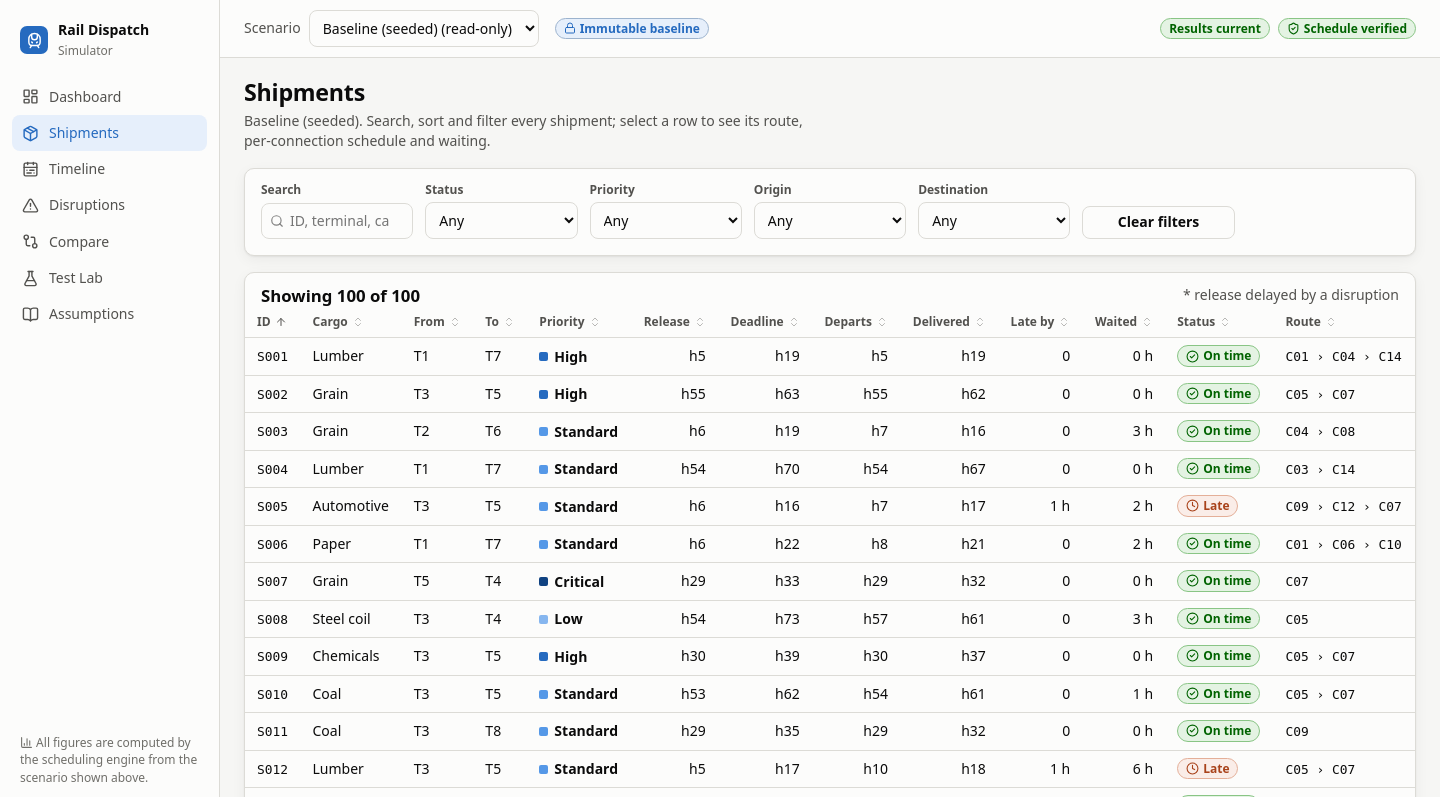
Test: shipments table › searches, filters and sorts
Expected: the heading "Showing 100 of 100" is shown, [261, 285, 420, 306]
Select "Undeliverable" in the dropdown named "Filter by status" at (501, 220), box [425, 202, 578, 239]
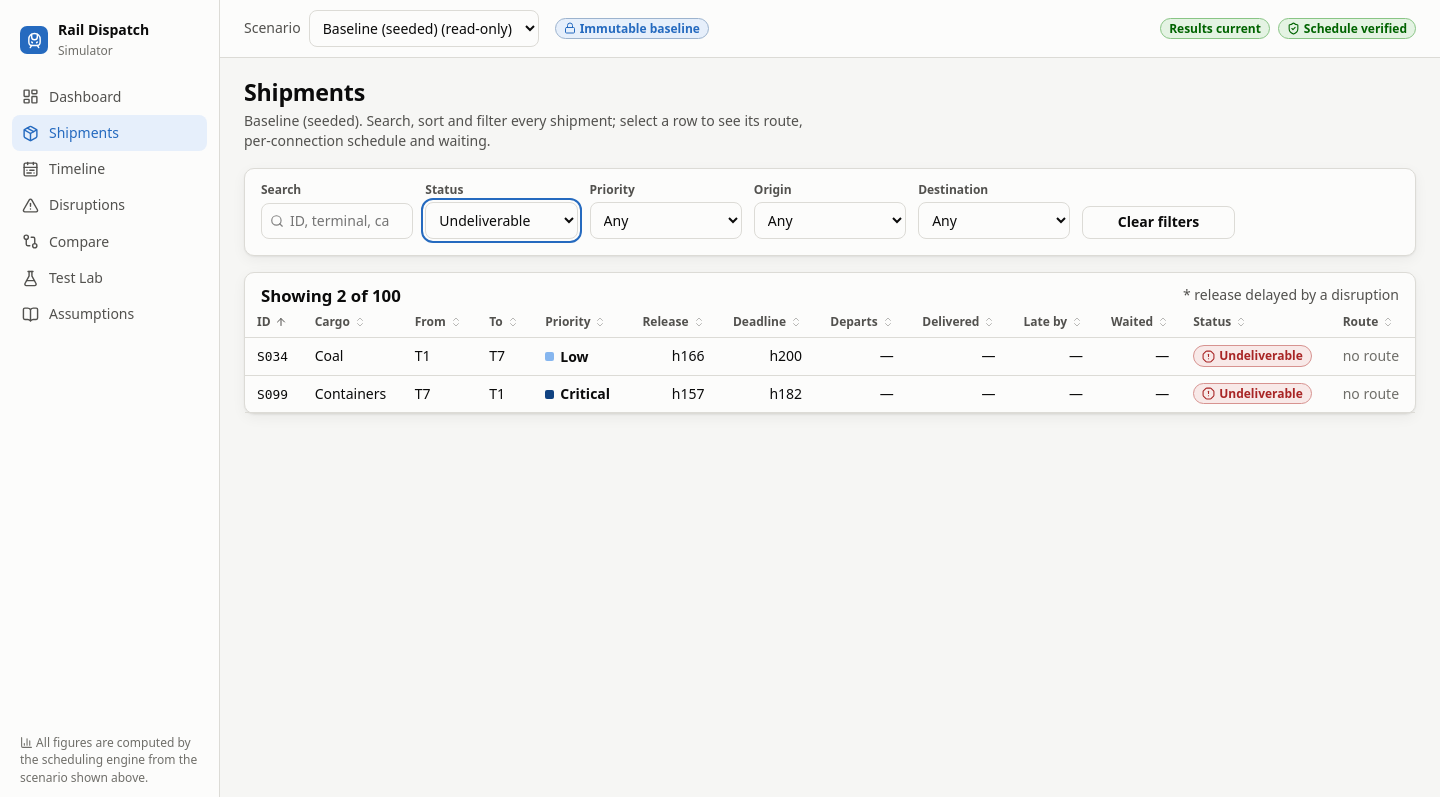
Select "Any" in the dropdown named "Filter by status" at (501, 220), box [425, 202, 578, 239]
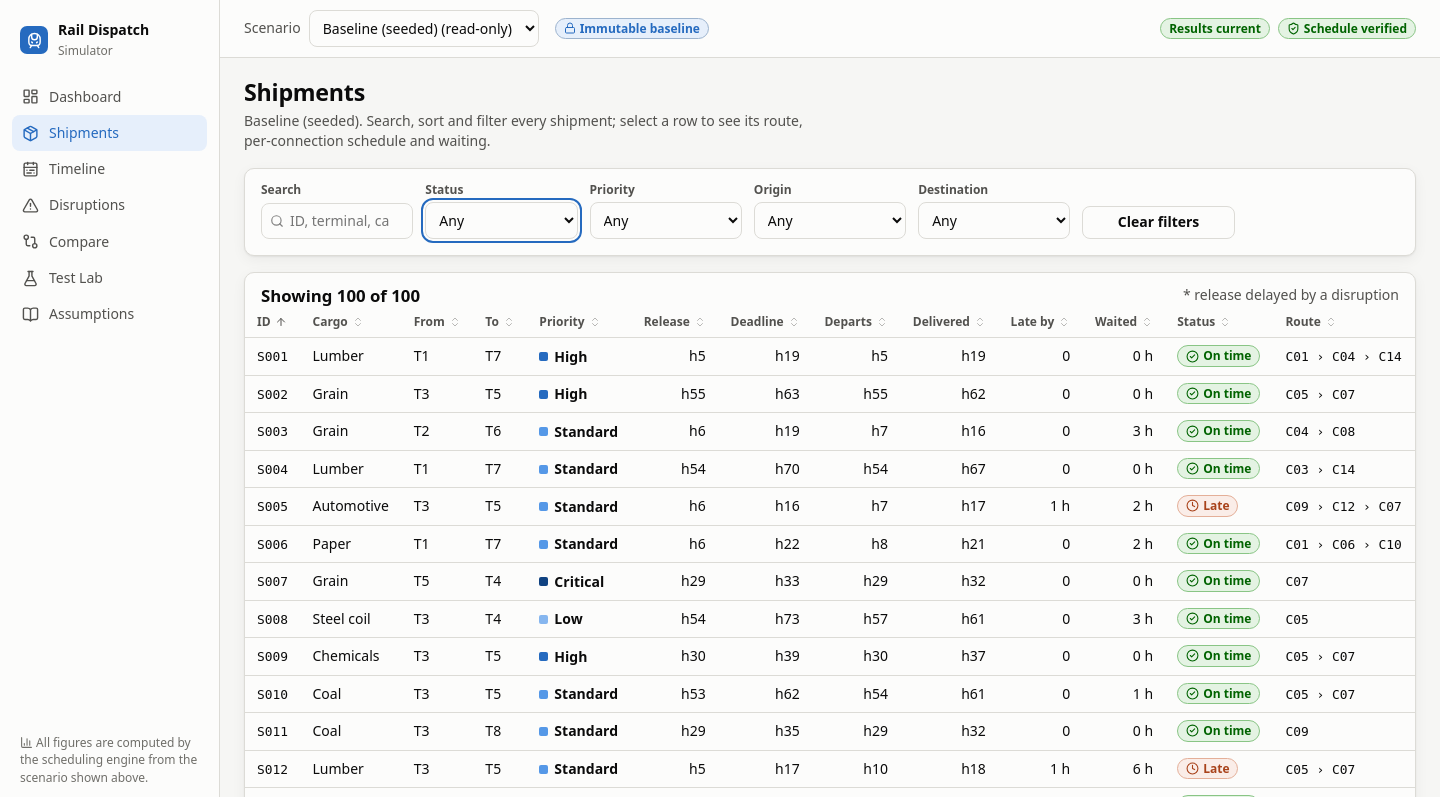
Type "S001" into the search field named "Search shipments" at (337, 221), box [261, 203, 413, 239]
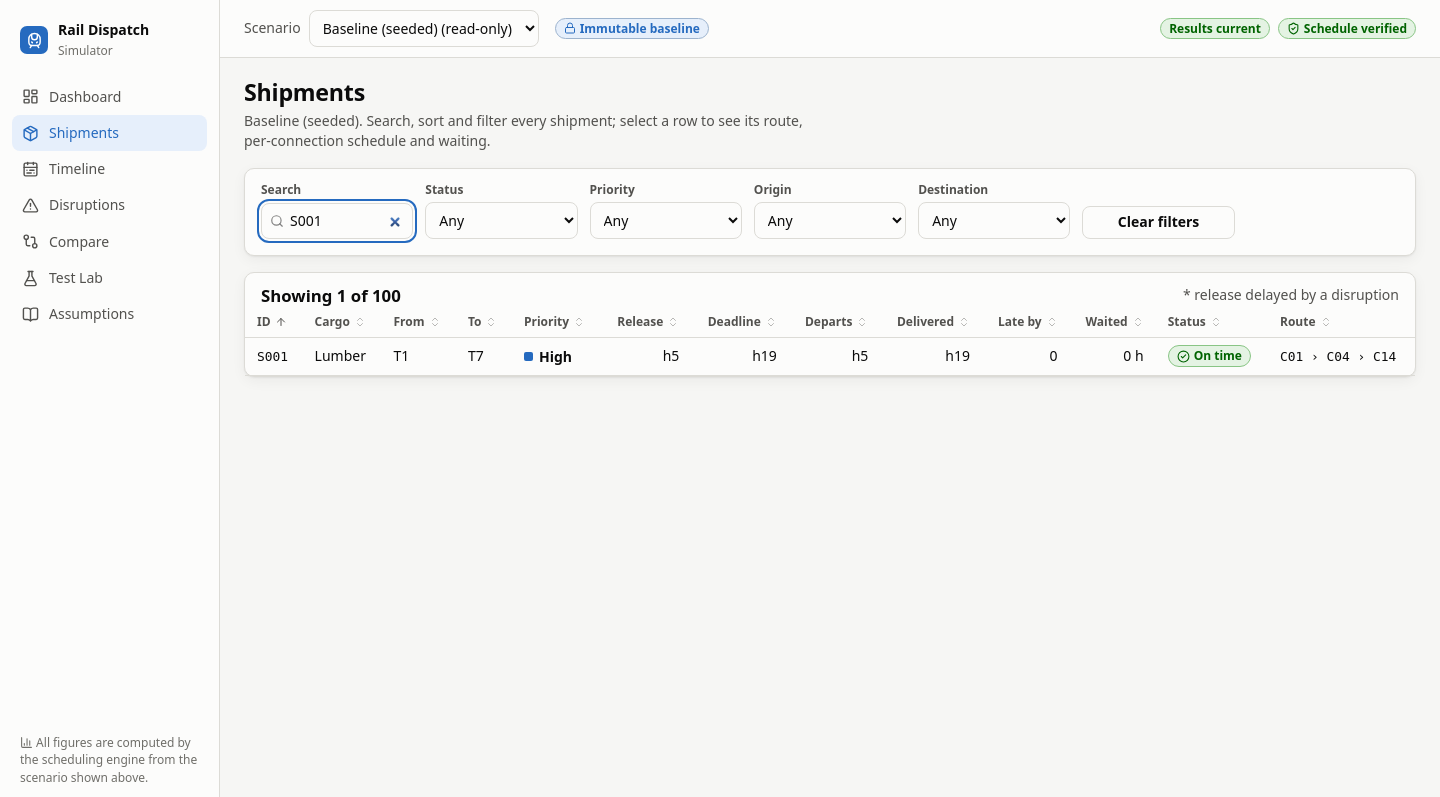
Expected: the heading "Showing 1 of 100" is shown, [261, 285, 401, 306]
Clear the search field named "Search shipments" at (337, 221), box [261, 203, 413, 239]
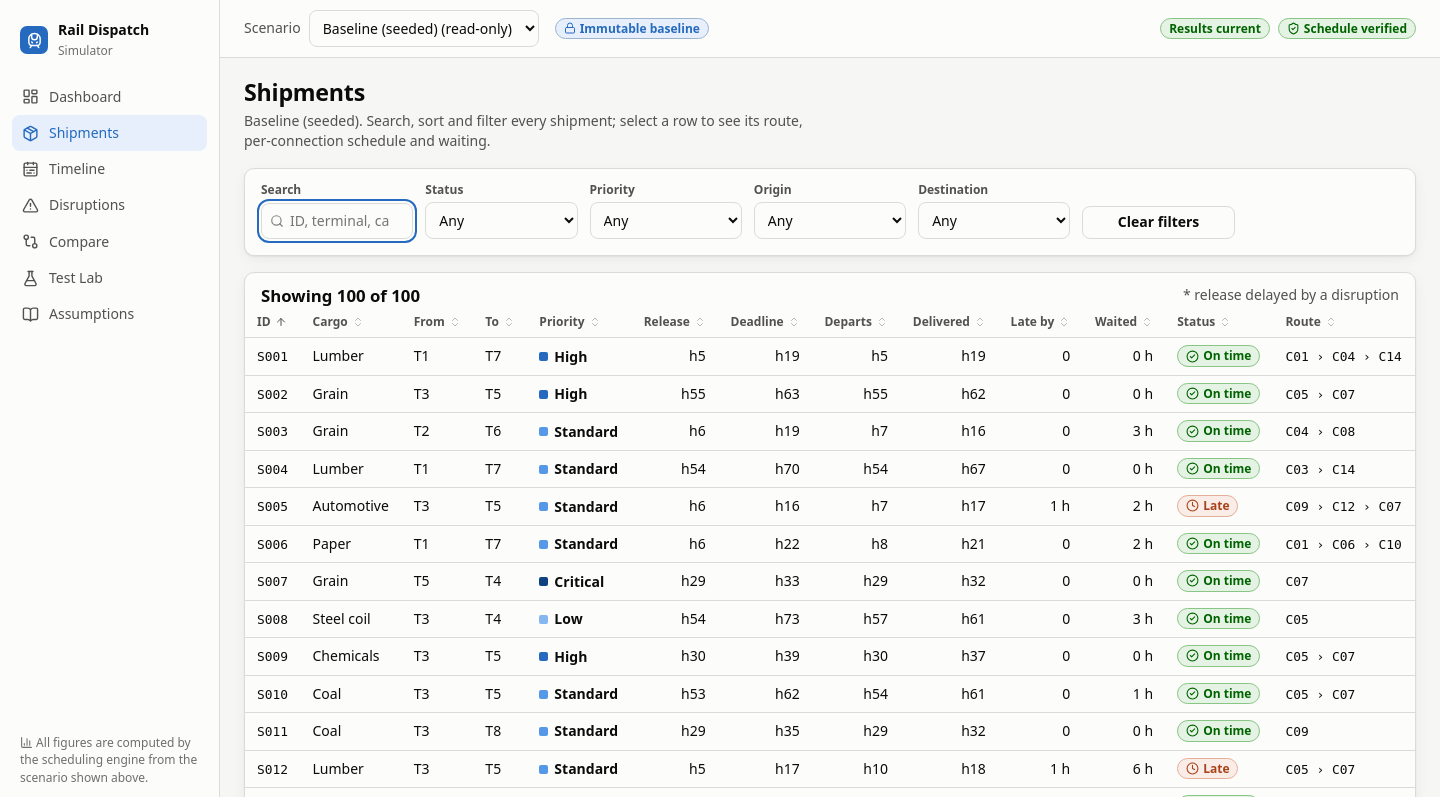
Click the button "Priority" at (570, 322), box [539, 313, 601, 330]
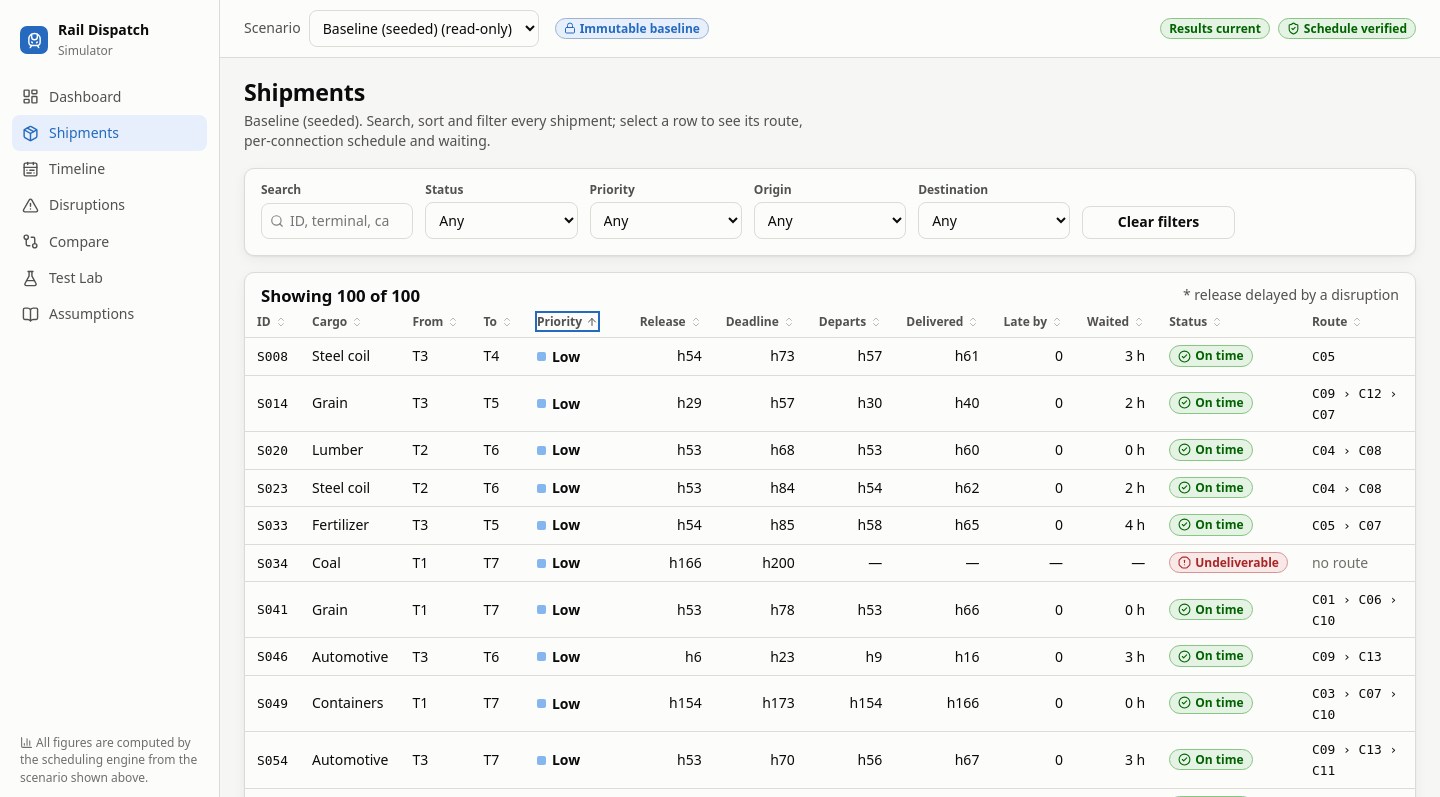
Expected: the text "Low" in the row of "S008" is shown, [552, 347, 580, 366]
Click the button "Priority" at (568, 322), box [537, 313, 598, 330]
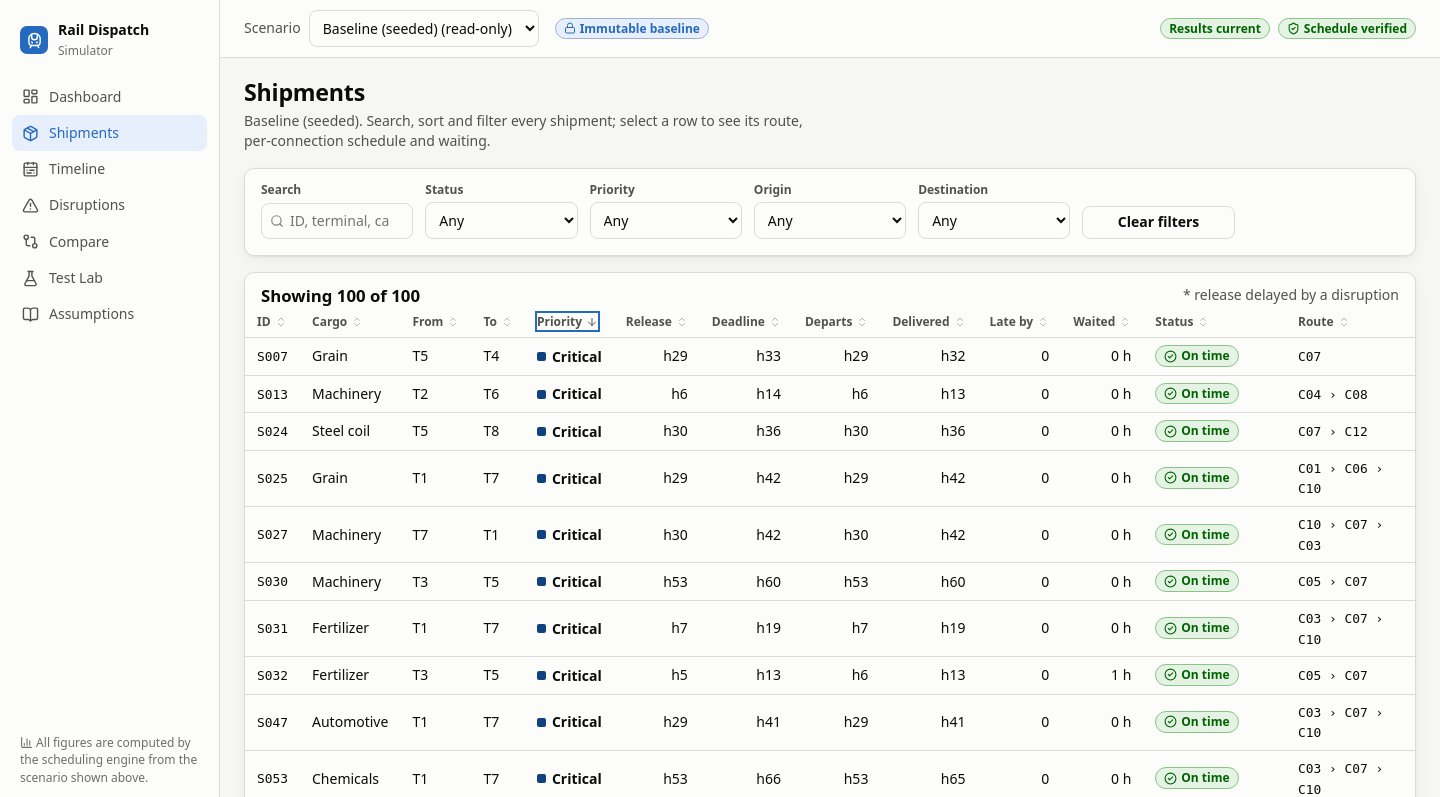
Expected: the text "Critical" in the row of "S007" is shown, [552, 347, 602, 366]
